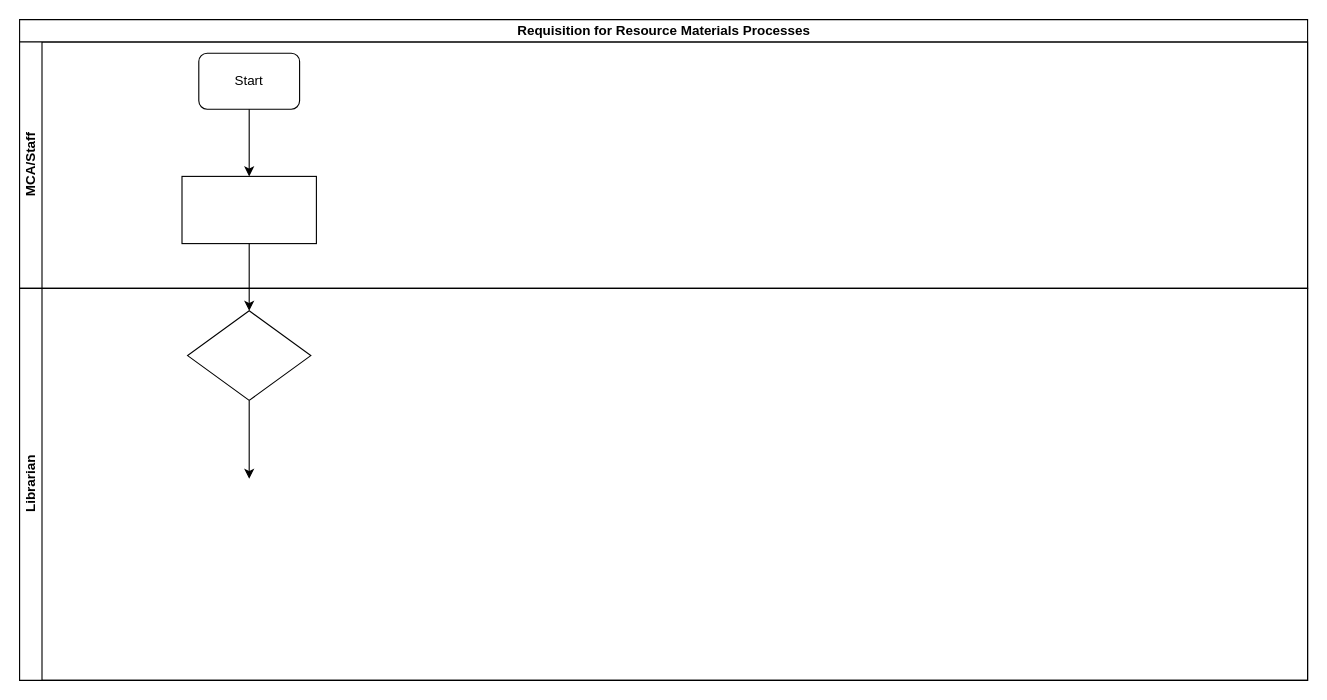
The diagram is 1327 pixels wide and 700 high, and some of its shapes have lost their labels. The centre of each missing label's shape, as x and y in pixels:
Requisition for resource materials: pixel 248 209
Resource available?: pixel 248 355
